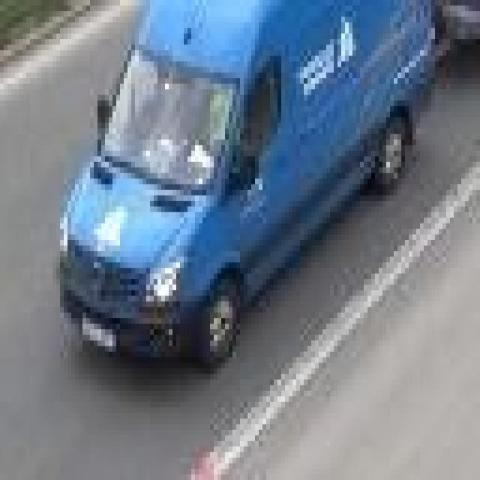van: (60, 0, 435, 380)
